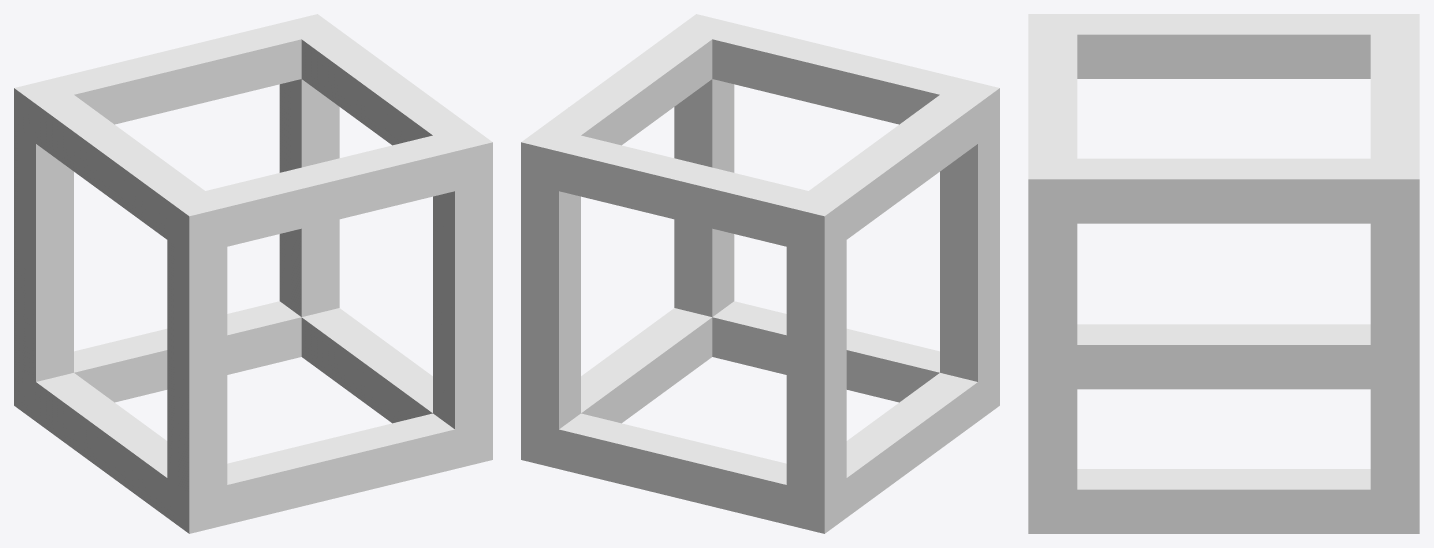
3 renders of one model, left to right at view 1: azimuth 30°, elevation 25°; view 2: azimuth 150°, elevation 25°; view 3: azimuth 270°, elevation 25°, orthographic. The views are drawn at different scales.
Parts seen in each view (by area): view 1: cube (×12); view 2: cube (×12); view 3: cube (×10).
Boxes of the visible parts, left/top/right/bottom form: cube (×12): left=14, top=14, right=492, bottom=533; cube (×12): left=521, top=14, right=999, bottom=533; cube (×10): left=1028, top=14, right=1419, bottom=533.
Size of the model in its own units: 1 by 1 by 1.
Materials: 1 (1 with a texture image).
